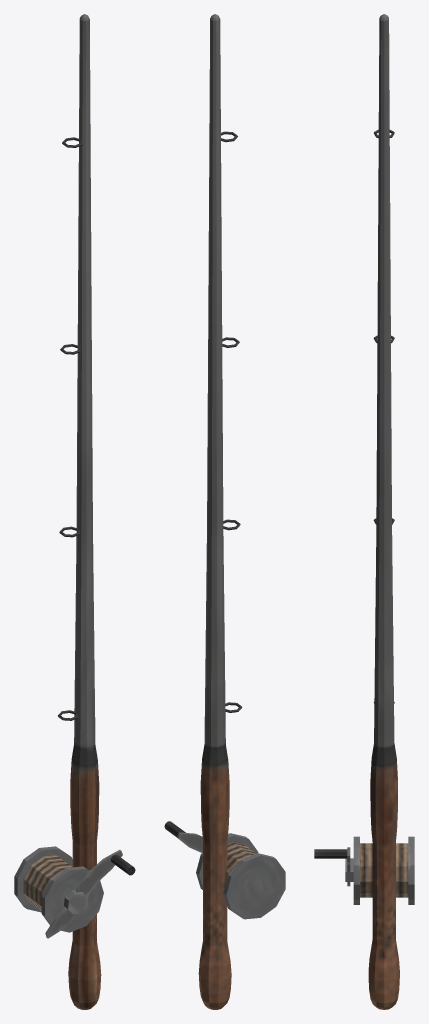
Rendered from fishing_rod.fbx.
3 renders of one model, left to right at view 1: azimuth 30°, elevation 25°; view 2: azimuth 210°, elevation 25°; view 3: azimuth 270°, elevation 25°, orthographic.
Visible parts, largest first — view 1: fishing_rod; view 2: fishing_rod; view 3: fishing_rod.
Boxes of the visible parts, bbox=[...] form: fishing_rod: bbox=[14, 14, 135, 1009]; fishing_rod: bbox=[164, 14, 285, 1009]; fishing_rod: bbox=[314, 14, 414, 1009].
Bounding box in the file's own units: 19.92 × 248 × 22.7.
Materials: 1 (1 with a texture image).
